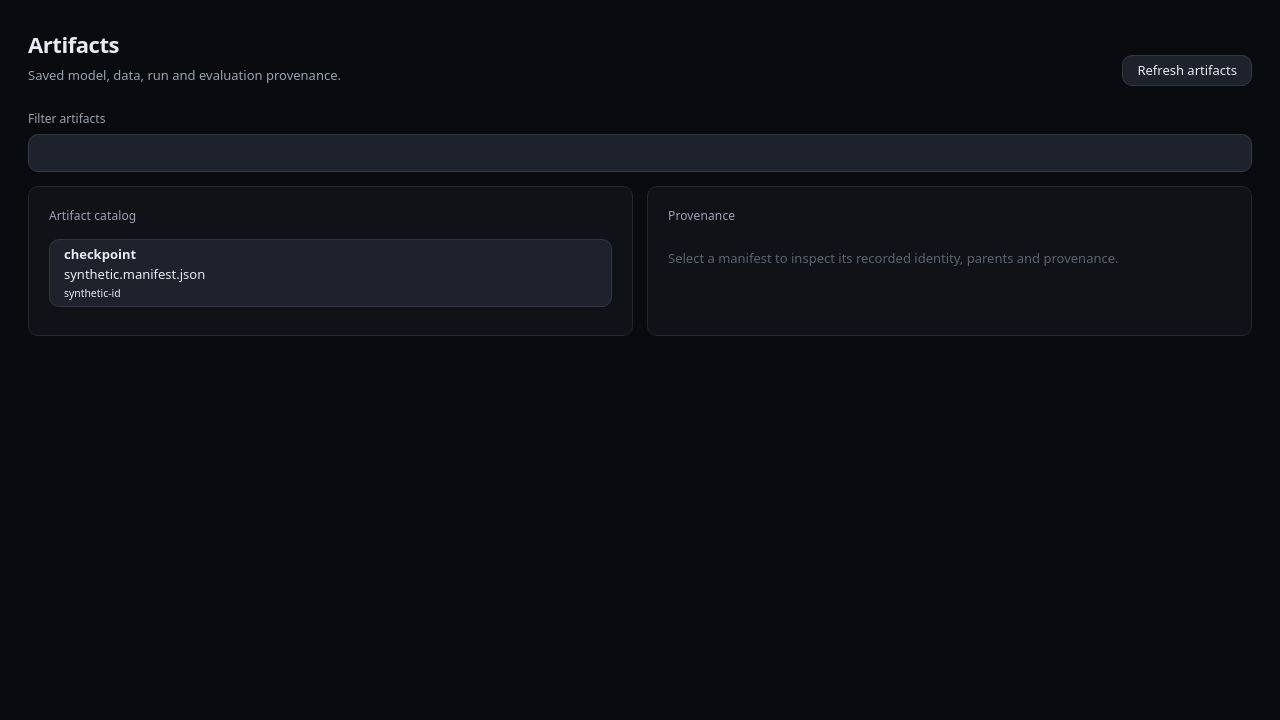
Test: evaluation and artifact service contracts › shows recorded artifact provenance without inventing missing governance
Click the button "checkpoint synthetic.manifest.json synthetic-id". click: (100, 254)
box: [49, 239, 612, 307]
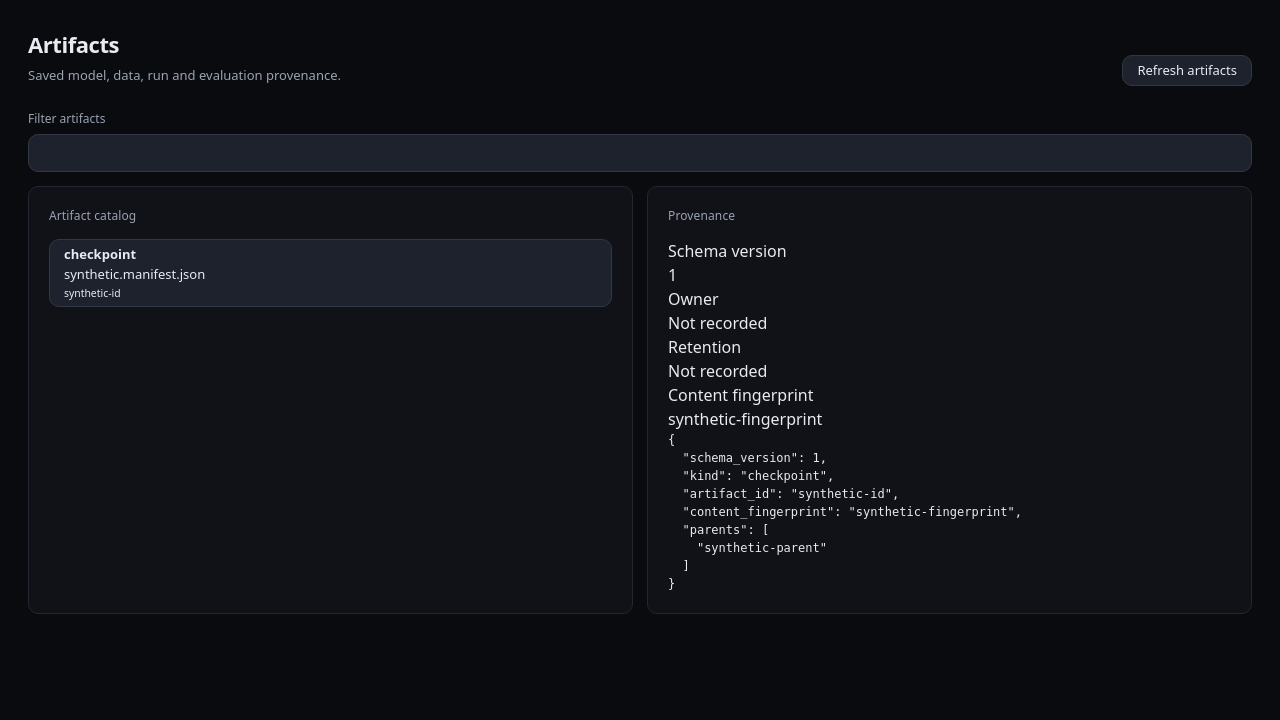
Expected: the text "Not recorded" is shown 2 times, [668, 312, 768, 334]; [668, 360, 768, 382]
Expected: the text "synthetic-fingerprint" is shown, [668, 408, 822, 430]
Expected: the text "synthetic-parent" is shown, [668, 433, 1022, 591]
